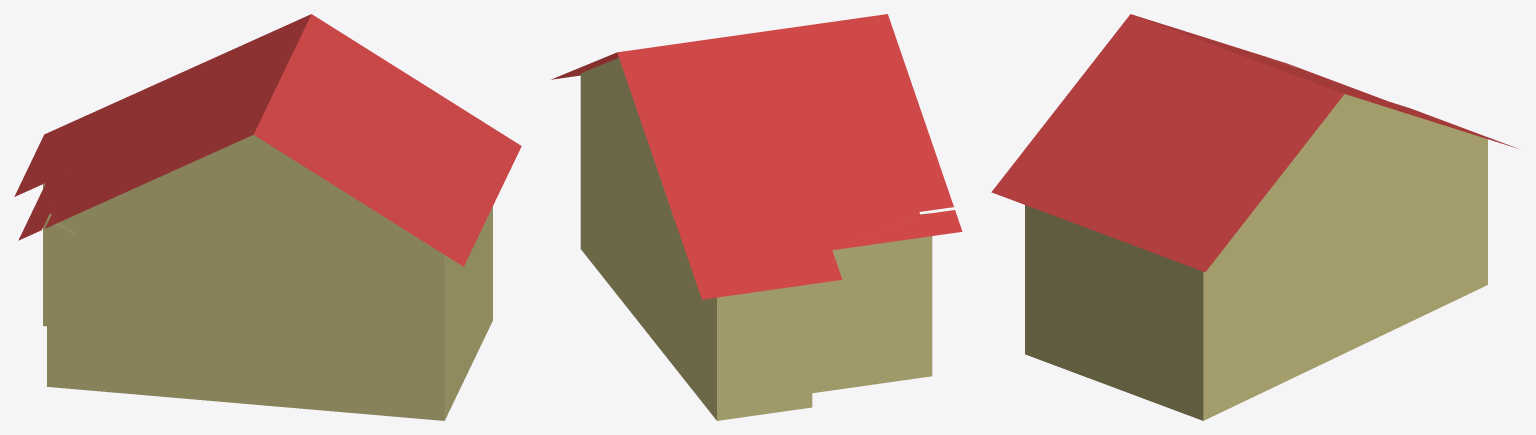
3 renders of one model, left to right at view 1: azimuth 30°, elevation 25°; view 2: azimuth 150°, elevation 25°; view 3: azimuth 270°, elevation 25°, orthographic. The views are drawn at different scales.
Size of the model in its own units: 16.42 by 16.65 by 9.52.
